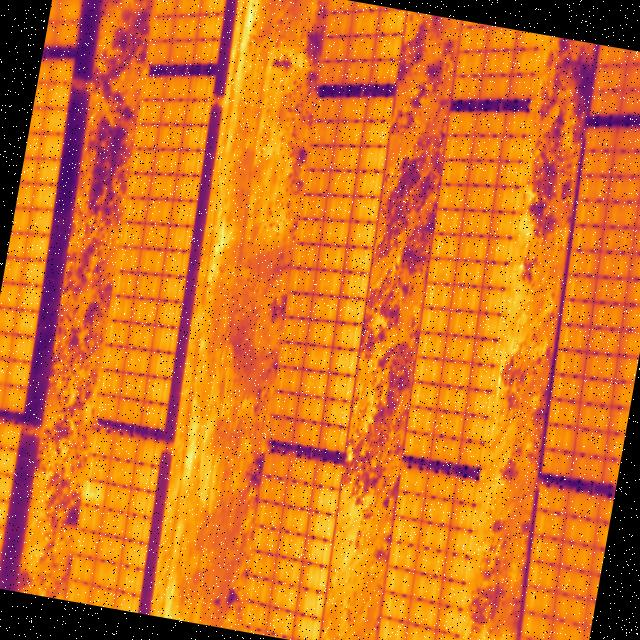Hotspot: (83, 482, 91, 502), (94, 485, 101, 504), (90, 490, 95, 498)
